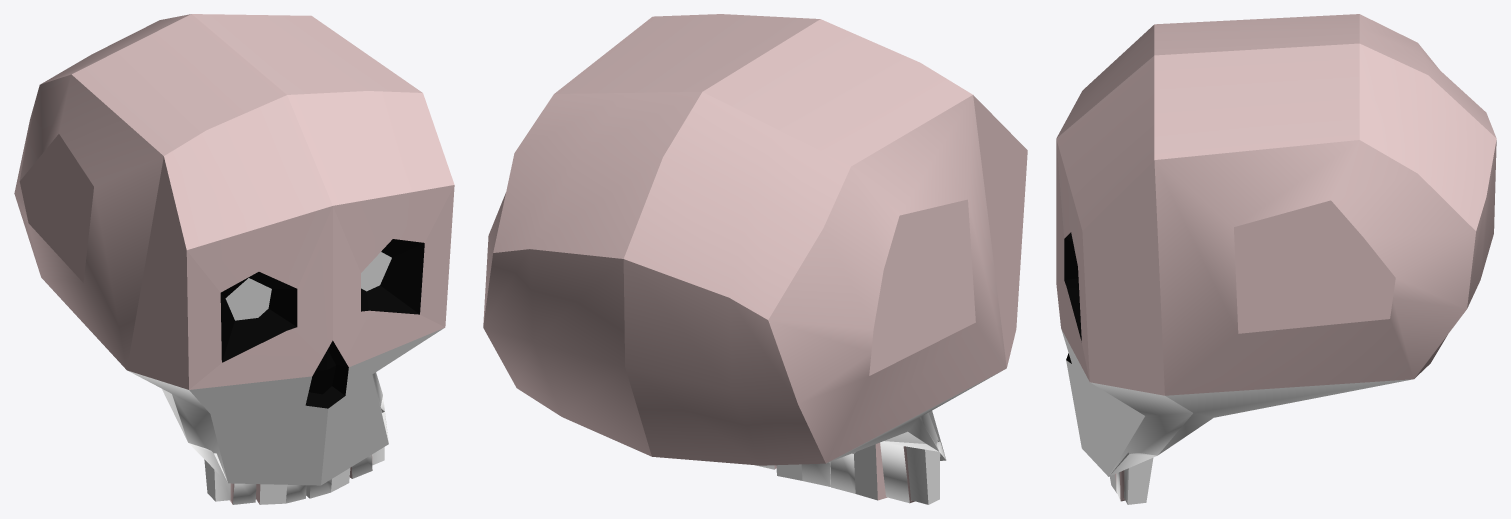
Rendered from SumonnedSkull.fbx.
The picture shows the model from 3 angles, left to right: view 1: azimuth 30°, elevation 25°; view 2: azimuth 150°, elevation 25°; view 3: azimuth 270°, elevation 25°; orthographic projection. The views are drawn at different scales.
Visible parts, largest first — view 1: FX_Skull_02; view 2: FX_Skull_02; view 3: FX_Skull_02.
Boxes of the visible parts, <box> form: FX_Skull_02: <box>14,14,454,504</box>; FX_Skull_02: <box>483,14,1027,504</box>; FX_Skull_02: <box>1056,14,1496,504</box>.
Size of the model in its own units: 49.27 by 56.42 by 52.41.
